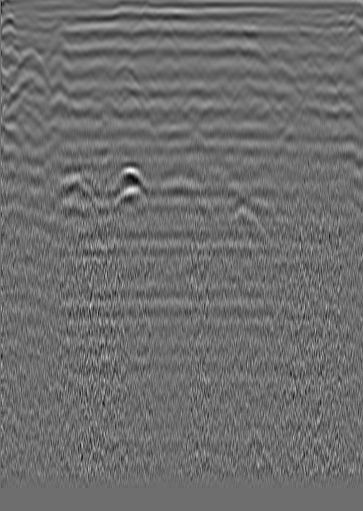가스: (110, 161, 147, 196)
상수: (18, 11, 38, 31)
오수: (315, 24, 335, 44)
우수: (154, 15, 174, 35)
